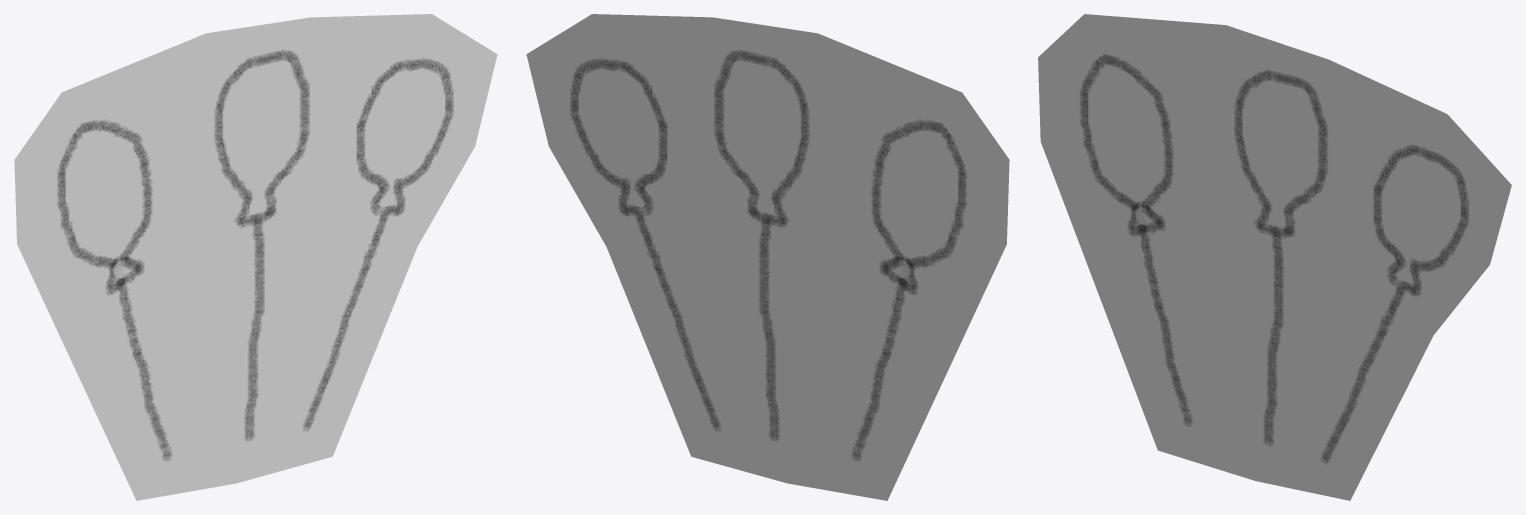
Rendered from Ballonger.fbx.
3 renders of one model, left to right at view 1: azimuth 30°, elevation 25°; view 2: azimuth 150°, elevation 25°; view 3: azimuth 330°, elevation 25°, orthographic.
Parts seen in each view (by area): view 1: Plane.026; view 2: Plane.026; view 3: Plane.026.
Boxes of the visible parts, box(x1,y1,x2,y2) form: Plane.026: box(14, 14, 497, 500); Plane.026: box(526, 14, 1009, 500); Plane.026: box(1038, 14, 1511, 500).
Bounding box in the file's own units: 44.15 × 39.95 × 6.51e-06.
1 material, 1 textured.
